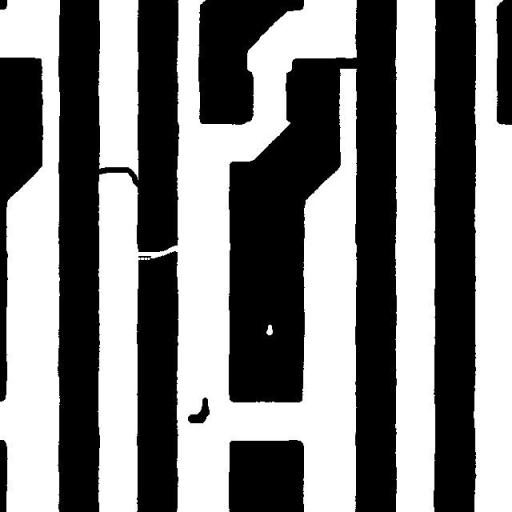copper: (180, 390, 217, 430)
open: (124, 238, 190, 267)
pin-hole: (258, 317, 280, 342)
short: (89, 160, 148, 194), (318, 50, 368, 76)
